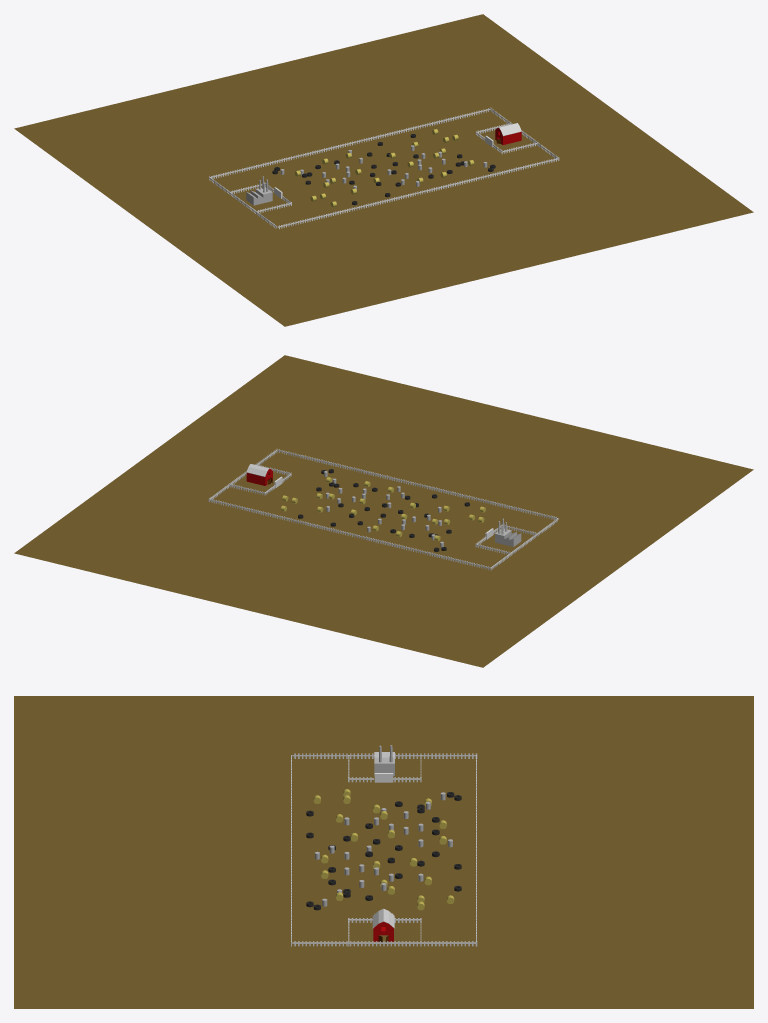
File: Map7.fbx
3 renders of one model, top to bottom at view 1: azimuth 30°, elevation 25°; view 2: azimuth 150°, elevation 25°; view 3: azimuth 270°, elevation 25°, orthographic. The views are drawn at different scales.
Parts seen in each view (by area): view 1: Terrain, Barrieres, Obstacles; view 2: Terrain, Barrieres, Obstacles; view 3: Terrain, Obstacles, Barrieres, Ferme.
Part boxes in pixels (bbox=[...]): Terrain: bbox=[14, 14, 753, 326]; Barrieres: bbox=[209, 107, 559, 229]; Obstacles: bbox=[272, 129, 495, 207]; Terrain: bbox=[14, 355, 753, 667]; Barrieres: bbox=[208, 449, 558, 570]; Obstacles: bbox=[281, 469, 485, 551]; Terrain: bbox=[14, 696, 753, 1008]; Obstacles: bbox=[306, 789, 461, 910]; Barrieres: bbox=[291, 753, 477, 946]; Ferme: bbox=[372, 908, 394, 942].
Size of the model in its own units: 200 by 9.78 by 200.
